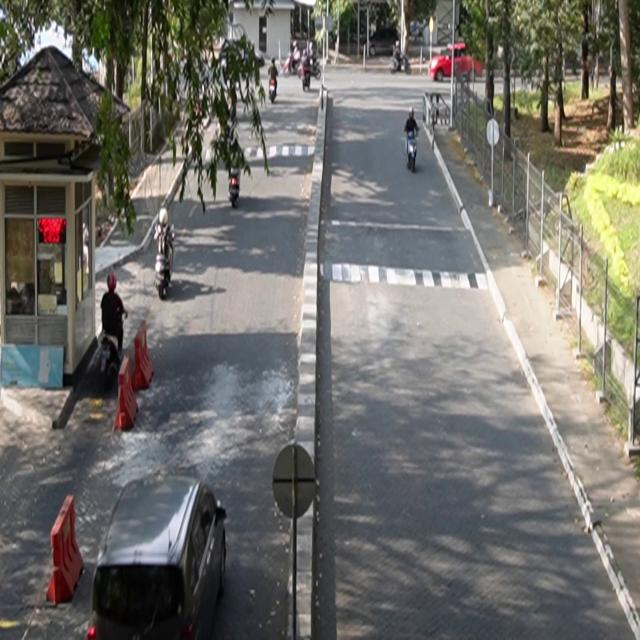car: (87, 475, 228, 640), (430, 43, 484, 83)
